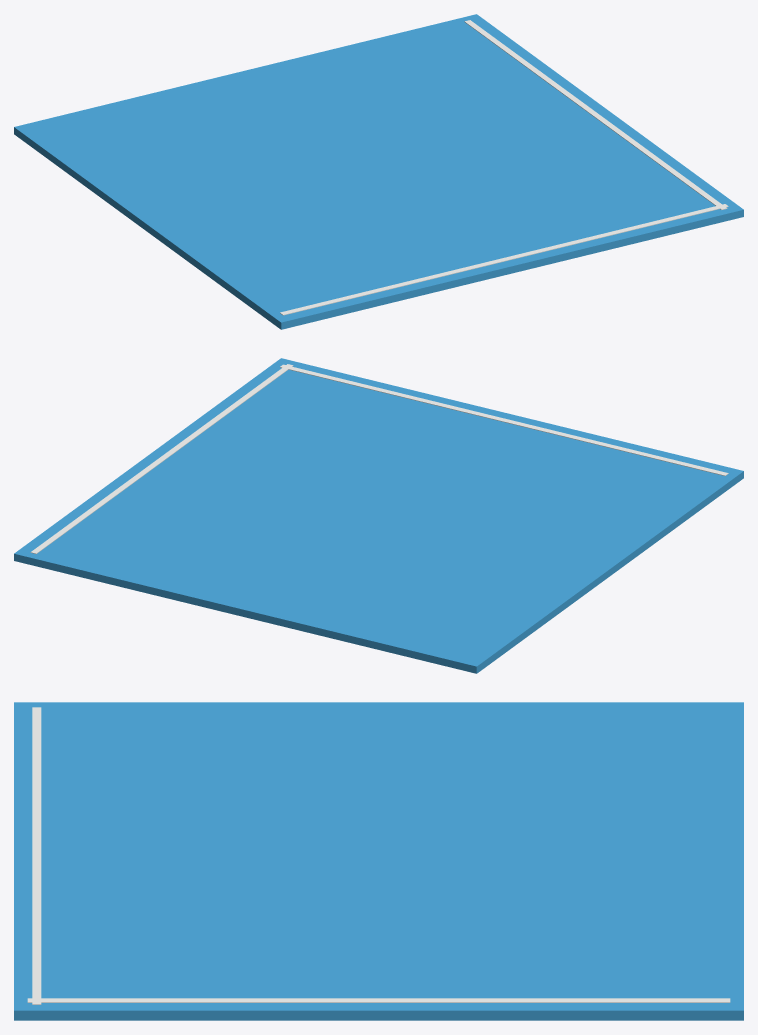
The model's file is velodrome-and-track-cycling-infield-floor-module-242a786f__37988.glb.
The picture shows the model from 3 angles, top to bottom: view 1: azimuth 30°, elevation 25°; view 2: azimuth 150°, elevation 25°; view 3: azimuth 270°, elevation 25°; orthographic projection. The views are drawn at different scales.
Parts seen in each view (by area): view 1: infield-floor-module-azure, infield-floor-module-chalk; view 2: infield-floor-module-azure, infield-floor-module-chalk; view 3: infield-floor-module-azure, infield-floor-module-chalk.
Boxes of the visible parts, <box> form: infield-floor-module-azure: <box>14,14,743,329</box>; infield-floor-module-chalk: <box>280,20,728,315</box>; infield-floor-module-azure: <box>14,358,743,673</box>; infield-floor-module-chalk: <box>30,364,728,553</box>; infield-floor-module-azure: <box>14,702,743,1020</box>; infield-floor-module-chalk: <box>27,707,730,1004</box>.
Bounding box in the file's own units: 8 × 0.1302 × 8.
